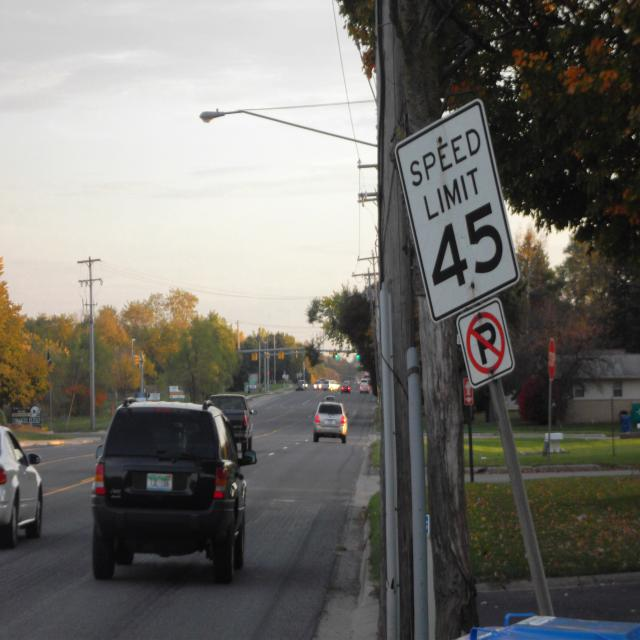regulatory: (393, 85, 523, 322), (454, 294, 518, 404)
stop: (545, 330, 559, 390)
